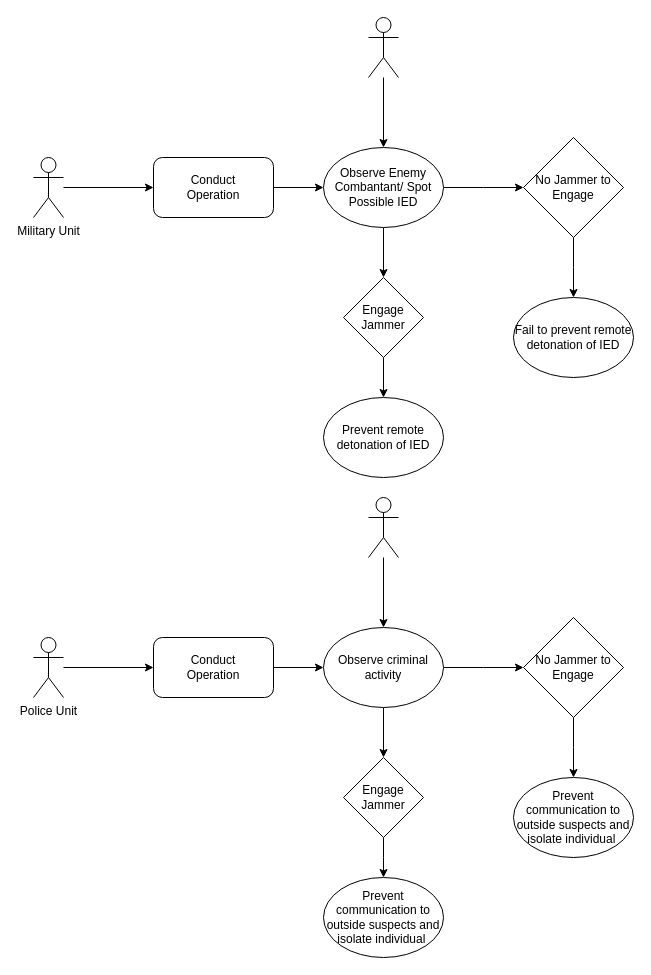
This 651x975 diagram has some shape labels left out. Each missing label, with the centre of its shape:
"Bad Actor/Enemy Combatant" goes at point 383,47.
"Criminal/Suspect" goes at point 383,527.
